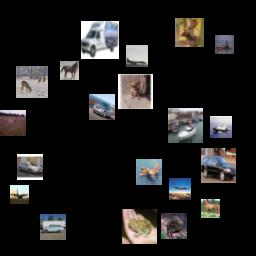airplane: (136, 159, 162, 185), (126, 45, 148, 67), (169, 178, 191, 200), (10, 185, 29, 204)
automobile: (201, 148, 236, 183), (89, 94, 115, 120), (40, 214, 66, 240), (17, 154, 43, 180)
deer: (16, 66, 48, 98), (175, 18, 204, 47), (0, 110, 26, 136)
dog: (118, 74, 153, 109)
frog: (122, 209, 157, 244), (161, 213, 187, 239)
ship: (168, 108, 203, 143), (210, 116, 232, 138), (215, 35, 234, 54)
truck: (81, 21, 119, 59)
